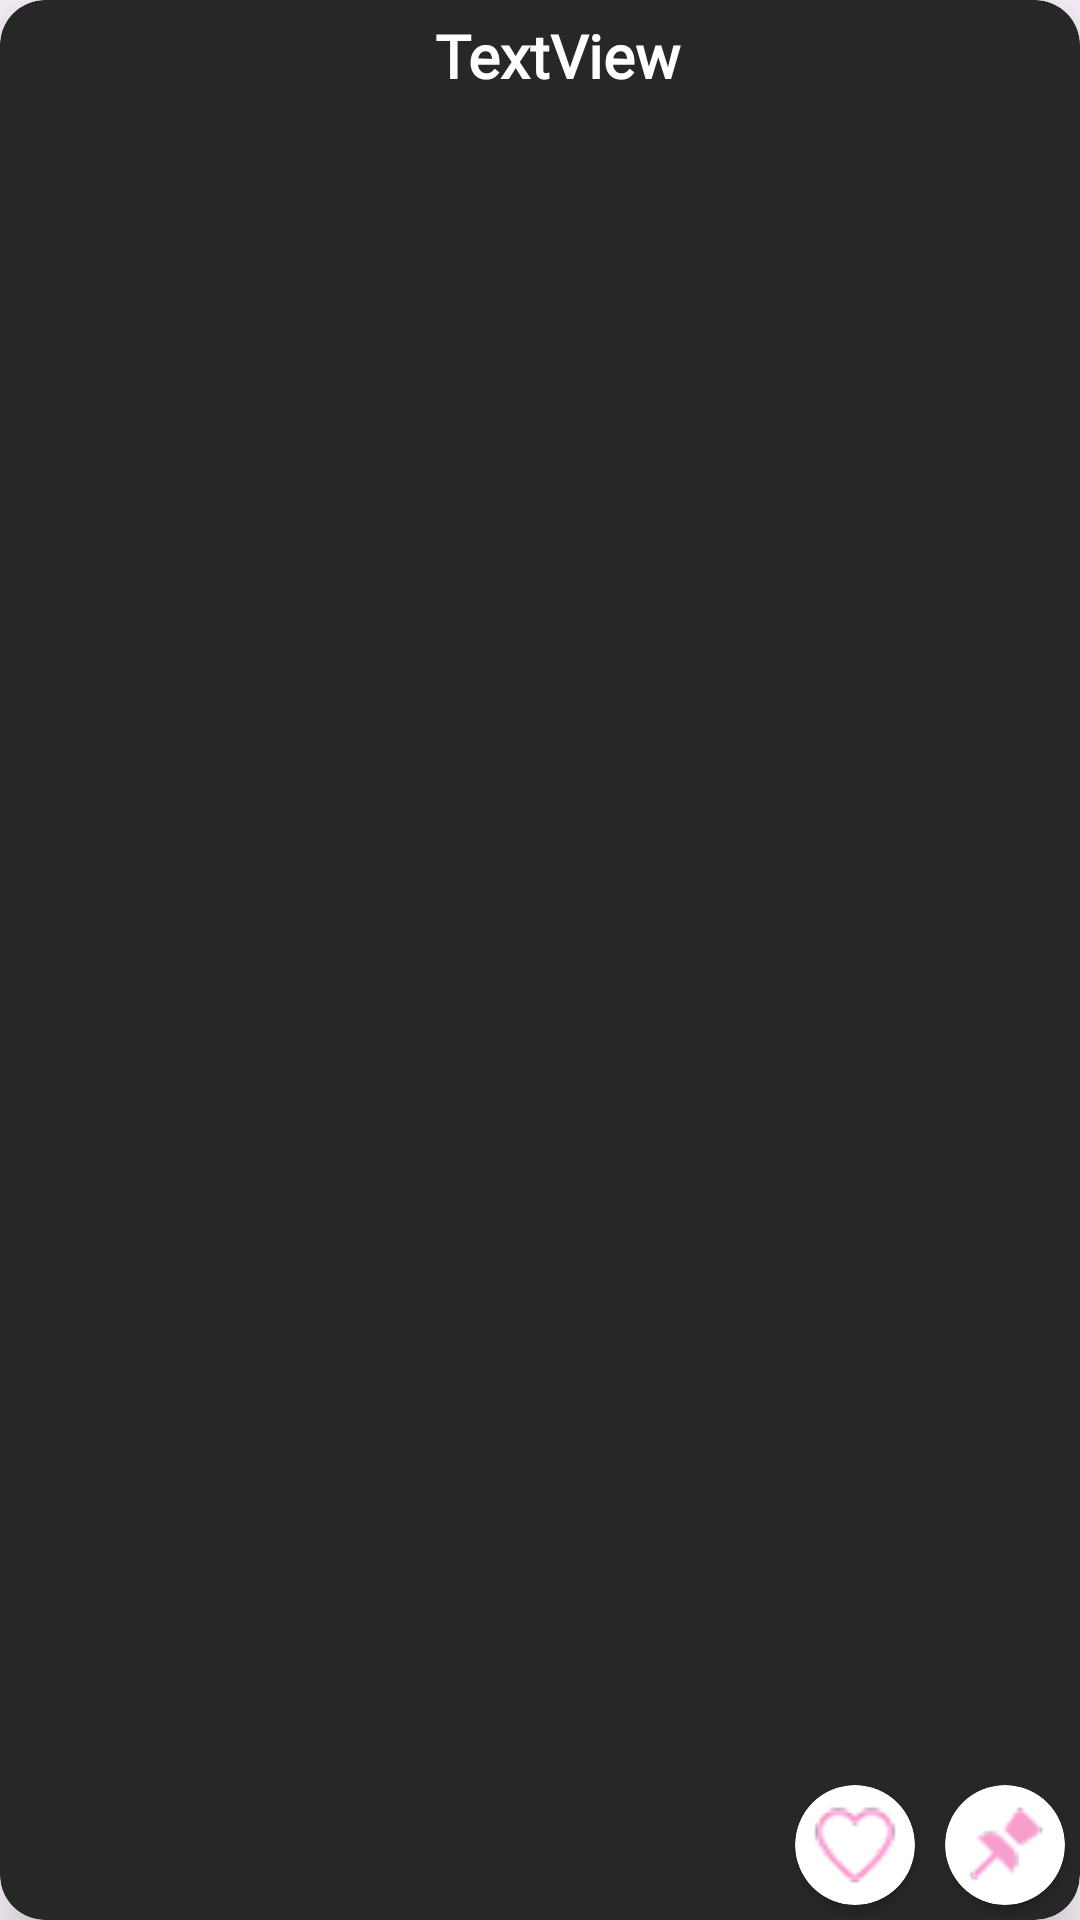

Icon bounding boxes for this 1080px×1920px phone screenshot, format (x1, y1, x2, y2):
blank favourite: (815, 1807, 895, 1883)
